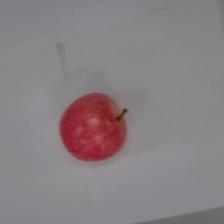red: (57, 89, 129, 163)
